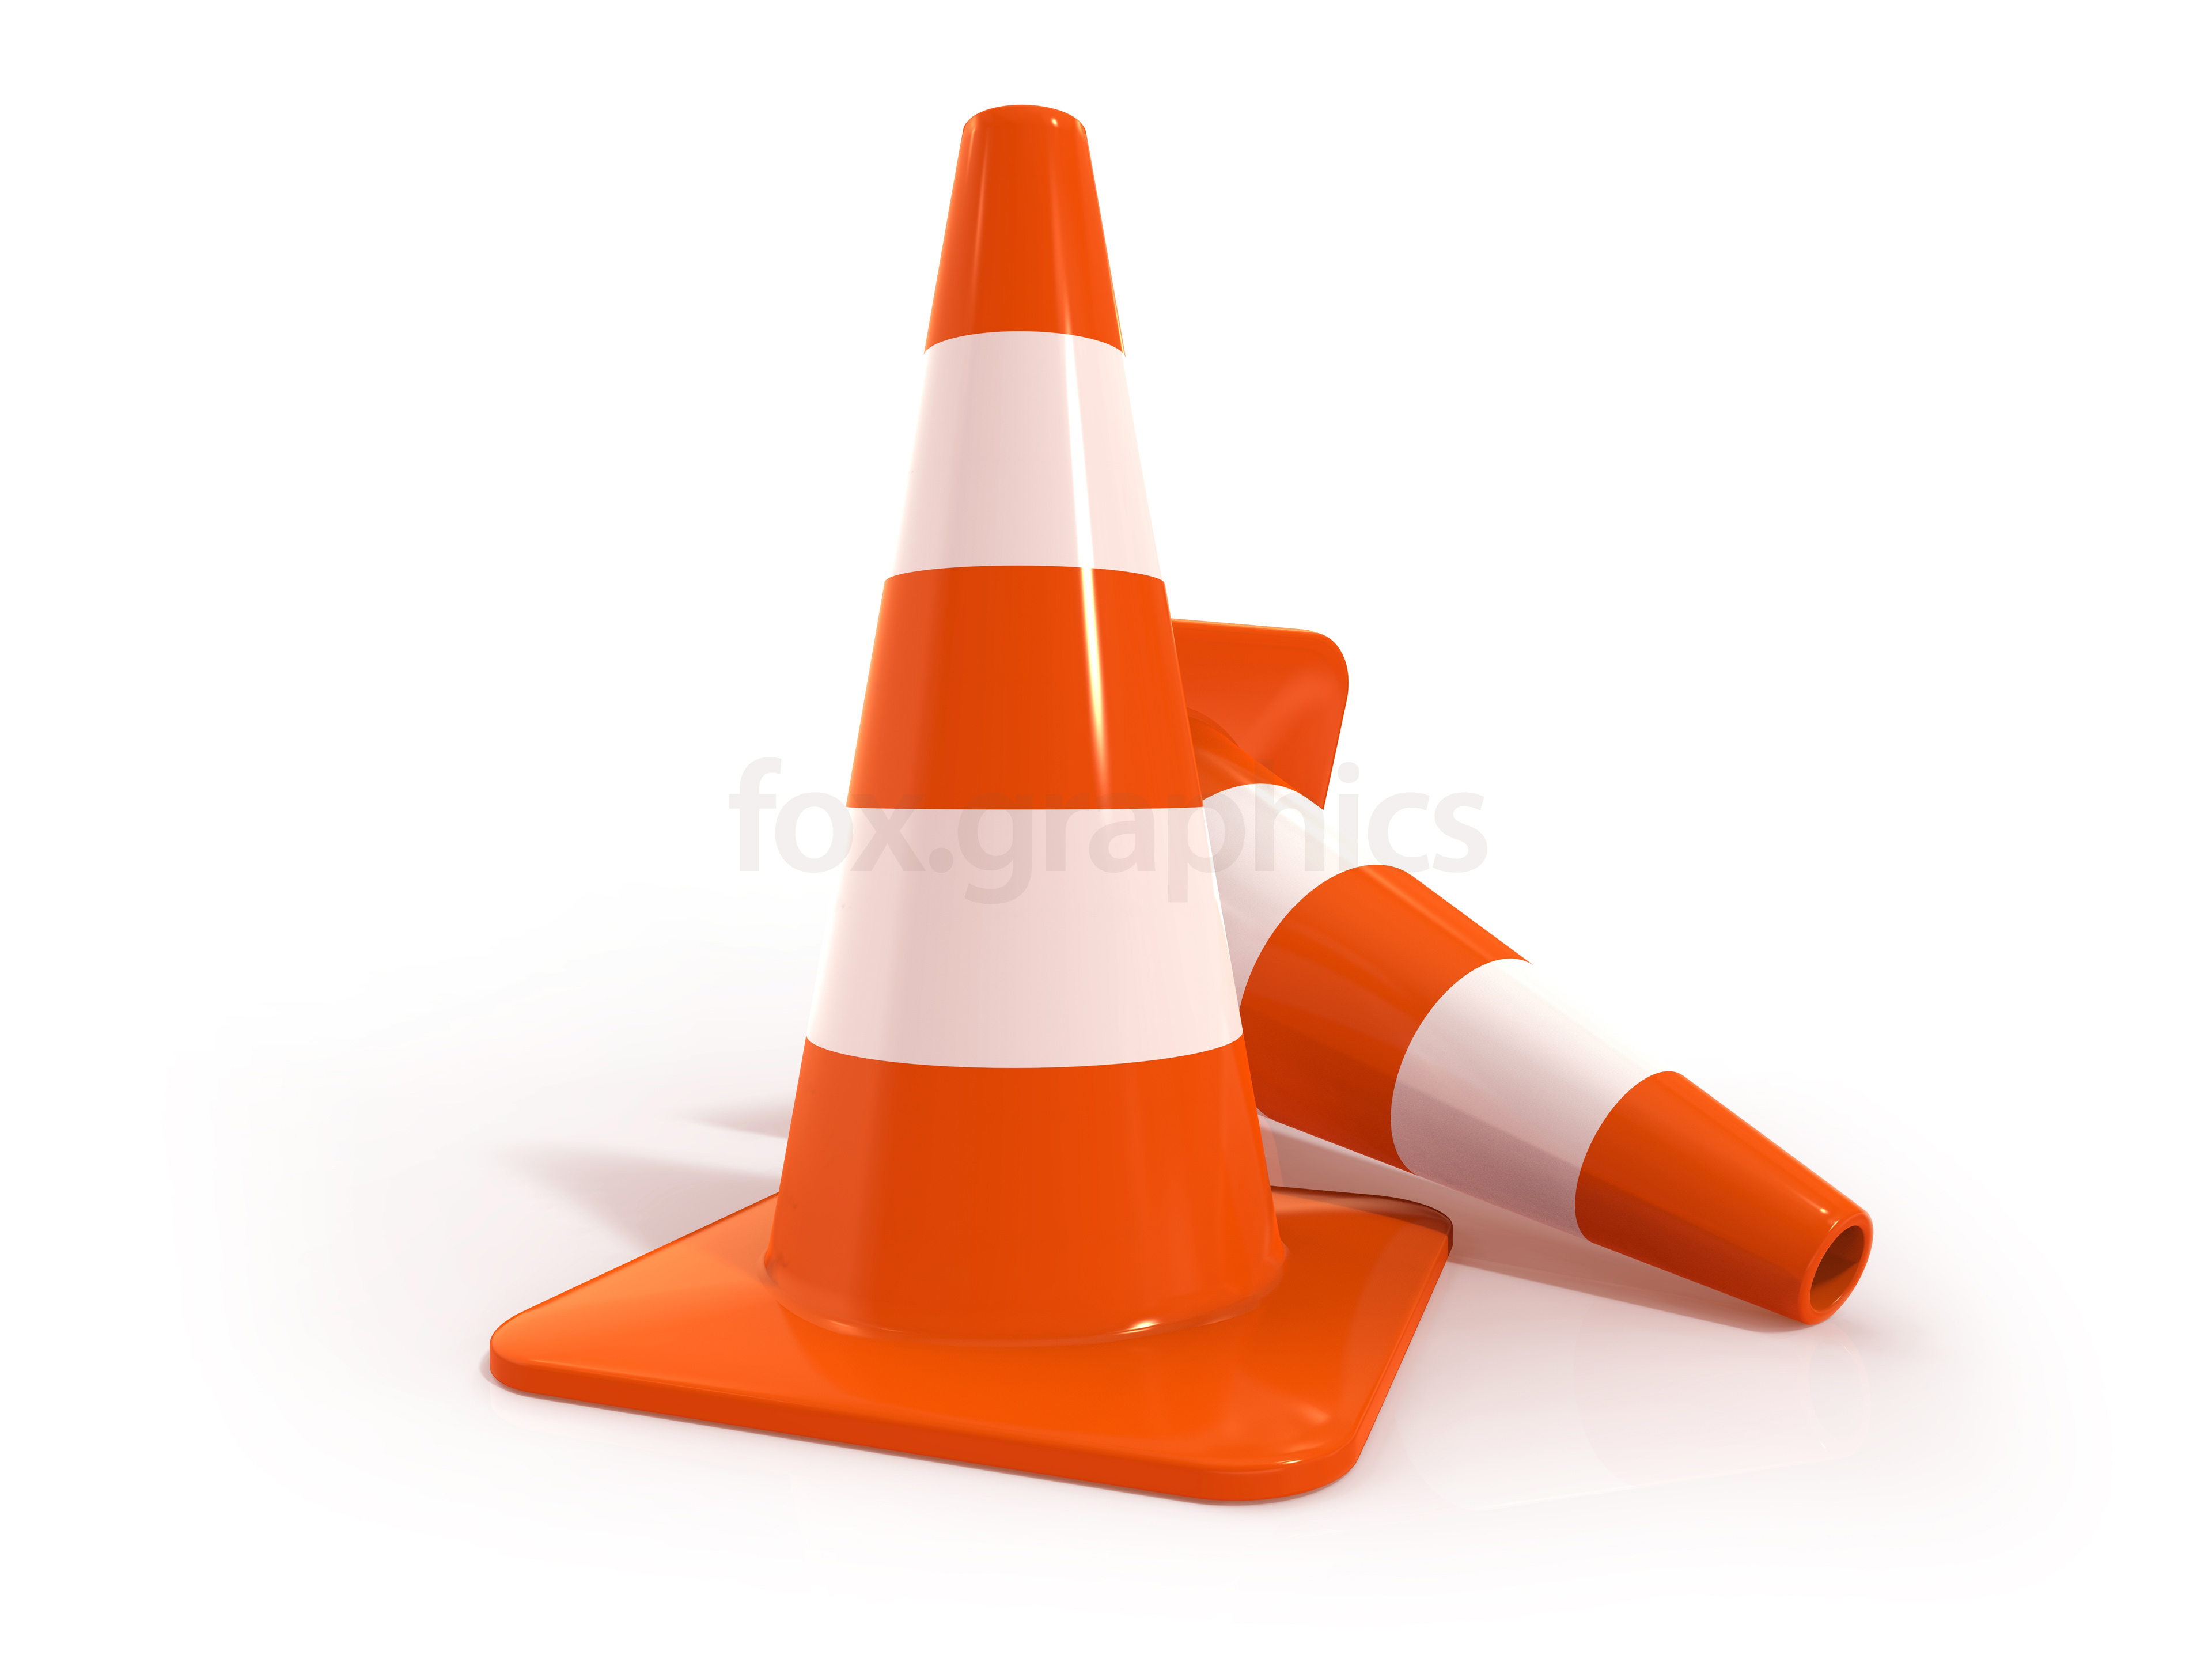cones: (549, 77, 1428, 1514), (1106, 589, 1893, 1333)
